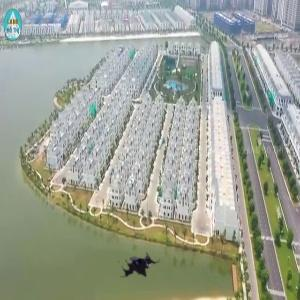drone: (115, 242, 165, 292)
